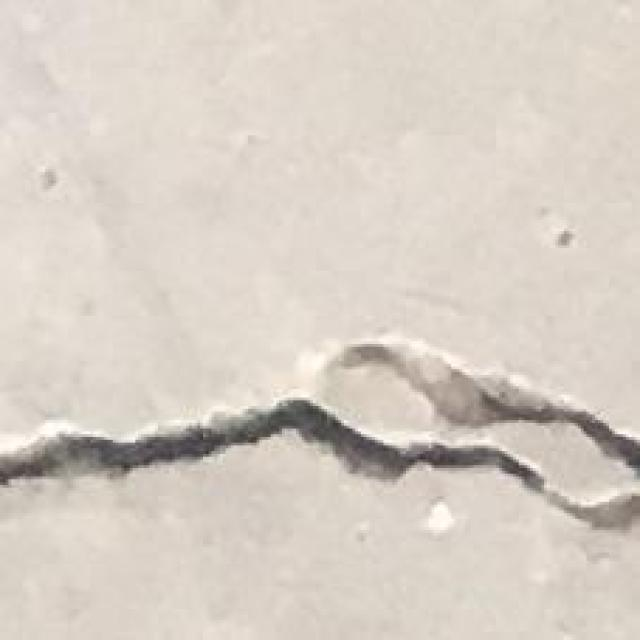Crack: (0, 336, 626, 552)
